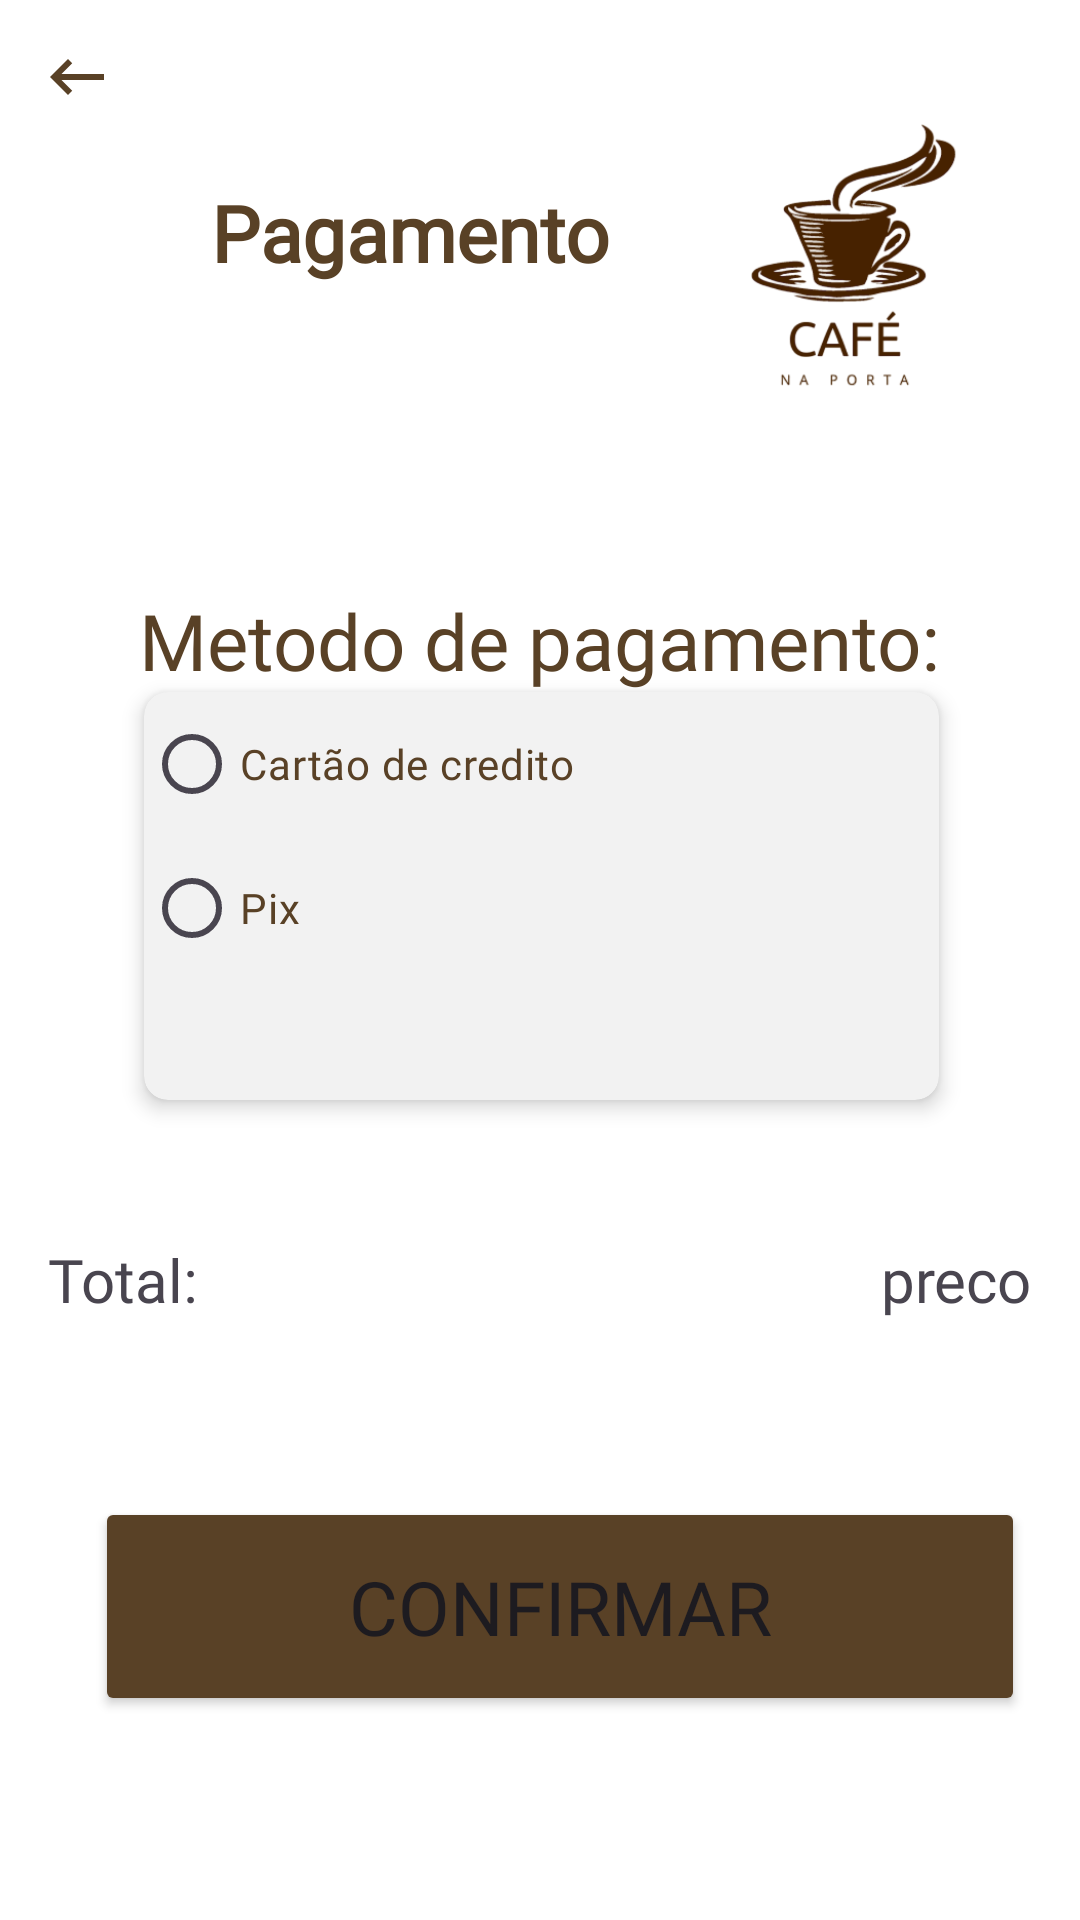

Named icons in this screenshot (1080px x 1920px) and their bounding boxes, (x1, y1, x2, y2):
keyboard backspace: (50, 59, 104, 95)
